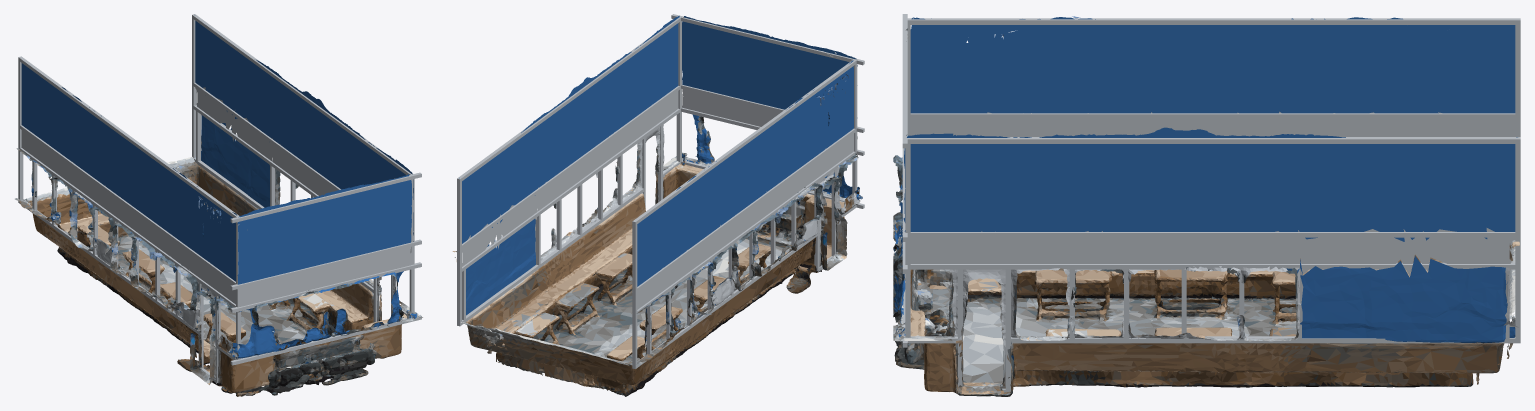
Rendered from scan_v2_05.obj.
The picture shows the model from 3 angles, left to right: view 1: azimuth 30°, elevation 25°; view 2: azimuth 150°, elevation 25°; view 3: azimuth 270°, elevation 25°; orthographic projection. The views are drawn at different scales.
Size of the model in its own units: 4.86 by 4.82 by 9.81.
1 material, 1 textured.
